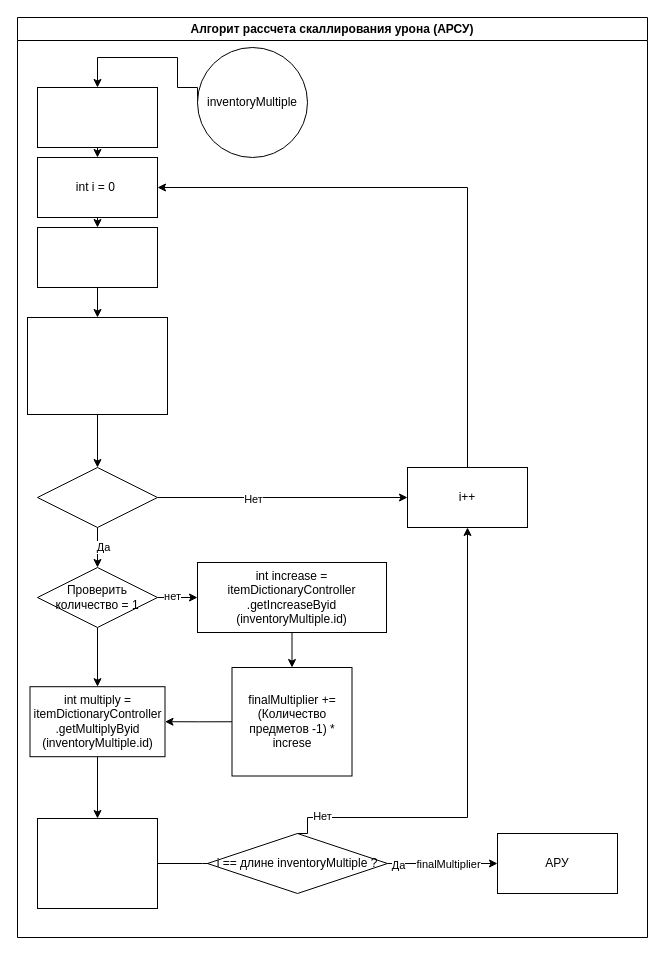
Some shapes in this 665 by 955 pixel diagram are drawn without their labels. The shapes that lost their labels are listed below. From the top down, each one's centre as x and y in pixels, then its label:
(97,117): Инициировать переменную множителя int finalMultiplier
(97,257): Взять i-тый элемент массива
(97,365): itemDictionaryController .getTypeByid (inventoryMultiple.id)
(97,497): i.type == damage ?
(97,863): finalMultiplier += multiply
